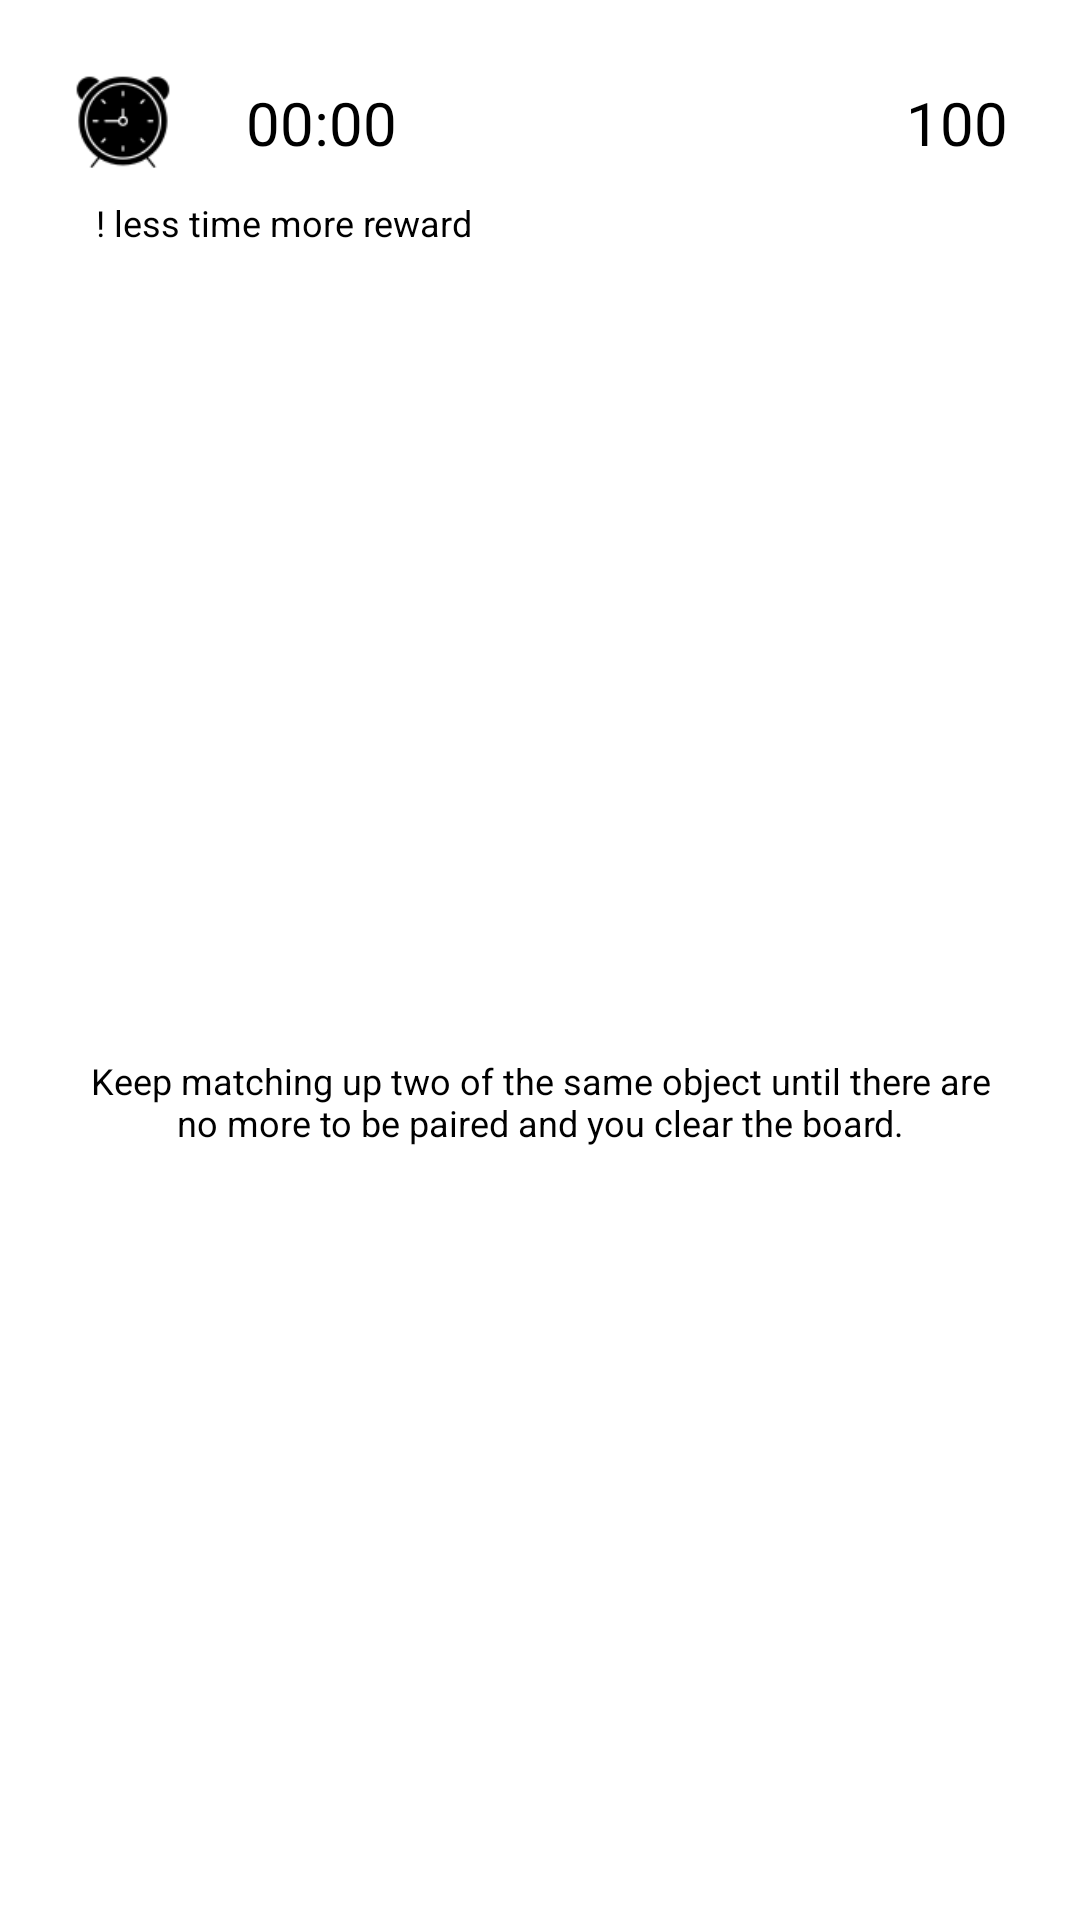

Icons on this 1080w x 1920h Android screen, each with the point to tap as point (x, y):
timer: point (123, 122)
